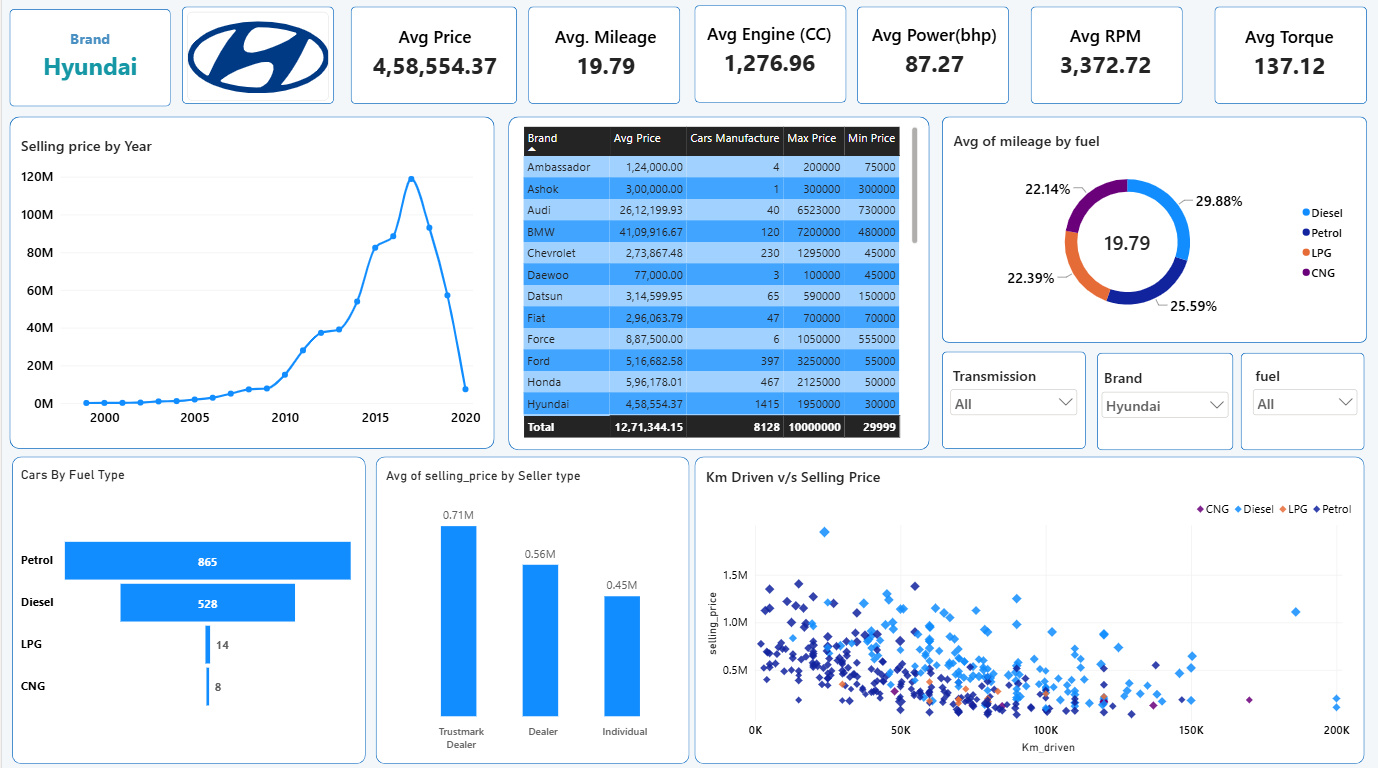

The page's visual inventory and layout, read from the dashboard file:
{"tool":"powerbi","page":{"name":"Page 1","canvas":[1920,1080],"ordinal":0},"visuals":[{"type":"shape","box":[9.8,14,225,136],"z":0},{"type":"shape","box":[734.7,10.5,212,136],"z":1000},{"type":"shape","box":[966.3,9.1,212,136],"z":2000},{"type":"shape","box":[1193.4,10.5,212,136],"z":3000},{"type":"shape","box":[1436.2,10.5,212,136],"z":4000},{"type":"shape","box":[1691.9,10.5,212.8,136],"z":5000},{"type":"shape","box":[250.5,10.5,212,136],"z":6000},{"type":"cardVisual","title":"Brand Name","fields":{"Data":["Max(public car_price.Brand)"]},"box":[9.8,10.5,225,134.3],"z":7000},{"type":"cardVisual","fields":{"Data":["public car_price.logo"]},"box":[257.4,17.4,198.8,125.6],"z":8000},{"type":"cardVisual","fields":{"Data":["public car_price.Avg Engine (CC)"]},"box":[966.6,10.5,209.3,122.1],"z":9000},{"type":"cardVisual","fields":{"Data":["Avg(public car_price.max_power)"]},"box":[1196.9,12.2,209.3,120.3],"z":10000},{"type":"cardVisual","fields":{"Data":["public car_price.Avg RPM"]},"box":[1436.2,12.2,209.3,122.1],"z":11000},{"type":"cardVisual","fields":{"Data":["Avg(public car_price.Torque)"]},"box":[1691.9,13.3,209.3,123.8],"z":12000},{"type":"shape","box":[1527.9,493.6,190.1,136],"z":13000},{"type":"cardVisual","fields":{"Data":["Avg(public car_price.mileage)"]},"box":[744.1,19.9,195.3,111.6],"z":14000},{"type":"slicer","fields":{"Values":["public car_price.Brand"]},"box":[1529.7,514.5,186.6,90.7],"z":15000},{"type":"shape","box":[10.5,164,676.7,464],"z":16000},{"type":"lineChart","title":"Selling price by Year","fields":{"Category":["public car_price.year"],"Y":["Sum(public car_price.selling_price)"]},"box":[10.5,176.2,673.3,441.3],"z":17000},{"type":"shape","box":[1311.6,491.9,200.6,136],"z":18000},{"type":"slicer","fields":{"Values":["public car_price.transmission"]},"box":[1318.6,511,186.6,95.9],"z":19000},{"type":"shape","box":[1311.6,164,593,315.7],"z":20000},{"type":"donutChart","title":"Avg of mileage by fuel","fields":{"Category":["public car_price.fuel"],"Y":["Avg(public car_price.mileage)"]},"box":[1311.6,169.2,584.3,298.3],"z":21000},{"type":"shape","box":[486.6,11.2,232,136],"z":22000},{"type":"cardVisual","fields":{"Data":["public gold_performance.Avg Price"]},"box":[486.6,7.7,235.5,136],"z":23000},{"type":"shape","box":[706.4,164,587.8,465.7],"z":24000},{"type":"shape","box":[1728.5,493.6,172.7,136],"z":25000},{"type":"tableEx","fields":{"Values":["public gold_performance.Brand","Avg(public gold_performance.avg_price)","Sum(public gold_performance.count)","Max(public gold_performance.max_price)","Min(public gold_performance.min_price)"]},"box":[711.6,164,582.6,464],"z":26000},{"type":"slicer","fields":{"Values":["public car_price.fuel"]},"box":[1740.7,511,155.2,102.9],"z":27000},{"type":"shape","box":[14,638.4,493.6,429.1],"z":28000},{"type":"funnel","title":"Cars By Fuel Type","fields":{"Category":["public car_price.fuel"],"Y":["CountNonNull(public car_price.name)"]},"box":[10.5,638.4,497.1,429.1],"z":29000},{"type":"shape","box":[521.5,638.4,437.8,429.1],"z":30000},{"type":"clusteredColumnChart","title":"Avg of selling_price by Seller type","fields":{"Category":["public car_price.seller_type"],"Y":["Avg(public car_price.selling_price)"]},"box":[519.8,640.1,439.5,427.3],"z":31000},{"type":"shape","box":[966.3,638.4,934.9,429.1],"z":31500},{"type":"scatterChart","title":"Km Driven  v/s Selling Price","fields":{"Series":["public car_price.fuel"],"Size":["Avg(public car_price.max_power)"],"X":["Avg(public car_price.km_driven)"],"Y":["public car_price.selling_price"]},"box":[966.3,638.4,938.4,429.1],"z":32000}]}

Visuals, with their boxes in screenshot pixels (x1, y1, x2, y2), scaled from the page's 1920x1080 canvas onto the 1378x768 screenshot:
shape: Rect(7, 10, 169, 107)
shape: Rect(527, 7, 679, 104)
shape: Rect(694, 6, 846, 103)
shape: Rect(857, 7, 1009, 104)
shape: Rect(1031, 7, 1183, 104)
shape: Rect(1214, 7, 1367, 104)
shape: Rect(180, 7, 332, 104)
"Brand Name" cardVisual: Rect(7, 7, 169, 103)
cardVisual - public car_price.logo: Rect(185, 12, 327, 102)
cardVisual - public car_price.Avg Engine (CC): Rect(694, 7, 844, 94)
cardVisual - Avg(public car_price.max_power): Rect(859, 9, 1009, 94)
cardVisual - public car_price.Avg RPM: Rect(1031, 9, 1181, 96)
cardVisual - Avg(public car_price.Torque): Rect(1214, 9, 1365, 97)
shape: Rect(1097, 351, 1233, 448)
cardVisual - Avg(public car_price.mileage): Rect(534, 14, 674, 94)
slicer - public car_price.Brand: Rect(1098, 366, 1232, 430)
shape: Rect(8, 117, 493, 447)
"Selling price by Year" lineChart: Rect(8, 125, 491, 439)
shape: Rect(941, 350, 1085, 447)
slicer - public car_price.transmission: Rect(946, 363, 1080, 432)
shape: Rect(941, 117, 1367, 341)
"Avg of mileage by fuel" donutChart: Rect(941, 120, 1361, 332)
shape: Rect(349, 8, 516, 105)
cardVisual - public gold_performance.Avg Price: Rect(349, 5, 518, 102)
shape: Rect(507, 117, 929, 448)
shape: Rect(1241, 351, 1365, 448)
tableEx - public gold_performance.Brand x Avg(public gold_performance.avg_price): Rect(511, 117, 929, 447)
slicer - public car_price.fuel: Rect(1249, 363, 1361, 437)
shape: Rect(10, 454, 364, 759)
"Cars By Fuel Type" funnel: Rect(8, 454, 364, 759)
shape: Rect(374, 454, 688, 759)
"Avg of selling_price by Seller type" clusteredColumnChart: Rect(373, 455, 688, 759)
shape: Rect(694, 454, 1365, 759)
"Km Driven  v/s Selling Price" scatterChart: Rect(694, 454, 1367, 759)
